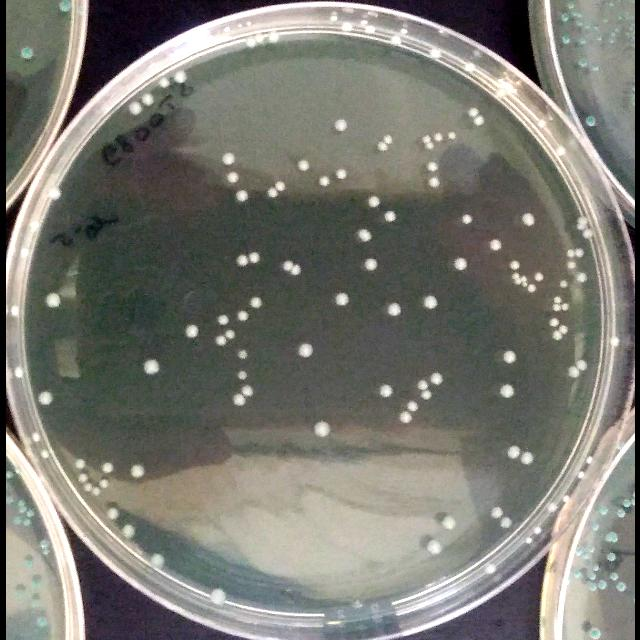colony: (314, 421, 330, 438), (142, 359, 159, 374), (45, 292, 60, 308), (209, 589, 225, 604), (422, 295, 438, 309), (149, 554, 164, 568), (426, 540, 441, 554), (499, 384, 514, 398), (38, 391, 52, 405), (130, 464, 144, 478), (298, 344, 312, 358), (334, 292, 348, 306), (386, 302, 400, 316), (441, 516, 455, 530), (506, 445, 520, 459), (121, 524, 134, 538), (128, 101, 141, 115), (286, 262, 300, 275), (521, 212, 534, 226), (502, 350, 515, 364), (185, 325, 198, 338), (221, 152, 234, 165), (358, 229, 371, 242), (20, 46, 32, 60), (172, 71, 186, 83), (520, 451, 532, 465), (482, 562, 496, 574), (576, 216, 588, 230), (39, 539, 49, 555), (232, 394, 245, 406), (235, 190, 248, 202), (379, 385, 391, 398), (399, 411, 411, 424), (430, 372, 442, 385), (490, 506, 502, 519), (604, 531, 618, 542), (58, 0, 70, 12), (48, 188, 60, 200), (249, 296, 261, 308), (334, 119, 346, 131), (226, 171, 238, 183), (364, 259, 376, 271), (454, 258, 466, 270), (489, 239, 501, 251), (499, 516, 511, 528), (235, 255, 248, 266), (248, 251, 259, 264), (16, 500, 26, 514), (106, 508, 118, 519), (101, 462, 112, 474), (236, 310, 248, 321), (141, 94, 152, 106), (368, 196, 379, 208), (426, 161, 438, 172), (472, 115, 484, 126), (568, 366, 579, 378), (575, 359, 586, 371), (589, 628, 600, 640), (35, 616, 46, 628), (215, 335, 226, 346), (241, 385, 252, 396), (268, 31, 279, 42), (298, 160, 309, 171), (281, 260, 292, 271), (384, 211, 395, 222), (609, 336, 620, 347), (615, 581, 626, 592), (216, 315, 228, 325), (266, 188, 278, 198), (376, 141, 388, 151), (406, 401, 418, 411), (416, 380, 428, 390), (5, 470, 15, 482), (16, 518, 30, 526), (158, 78, 169, 88), (274, 181, 285, 191), (335, 169, 346, 179), (428, 178, 439, 188), (468, 108, 479, 118), (245, 38, 256, 48), (420, 390, 431, 400), (551, 330, 561, 341), (575, 272, 586, 282), (511, 272, 520, 284), (74, 459, 84, 469), (224, 330, 234, 340), (236, 370, 246, 380), (319, 176, 329, 186), (461, 214, 471, 224), (548, 502, 558, 512), (558, 325, 568, 335), (549, 318, 559, 328), (509, 260, 519, 270), (582, 229, 592, 239), (585, 116, 595, 126), (586, 571, 596, 581), (14, 366, 22, 378), (99, 479, 108, 489), (236, 350, 246, 359), (574, 249, 584, 258), (578, 59, 588, 68), (606, 552, 616, 561), (12, 515, 21, 525), (382, 135, 391, 144), (425, 141, 434, 150), (421, 135, 430, 144), (31, 432, 40, 441), (40, 450, 49, 459), (82, 482, 91, 491), (560, 302, 569, 311), (561, 35, 570, 44), (609, 572, 618, 581), (622, 499, 631, 508), (599, 506, 608, 515), (78, 474, 88, 482), (90, 488, 100, 496), (598, 580, 606, 590), (434, 132, 442, 141), (532, 526, 541, 534), (526, 284, 535, 292), (534, 272, 542, 281), (559, 280, 568, 288), (566, 261, 575, 269), (566, 249, 574, 258), (616, 509, 625, 517), (591, 522, 599, 531), (560, 14, 568, 22), (576, 471, 584, 479), (448, 131, 455, 140), (552, 296, 561, 303), (551, 304, 560, 311), (590, 64, 599, 71), (589, 582, 596, 591), (520, 276, 526, 286), (585, 456, 592, 464), (525, 538, 531, 543), (15, 516, 19, 520)
